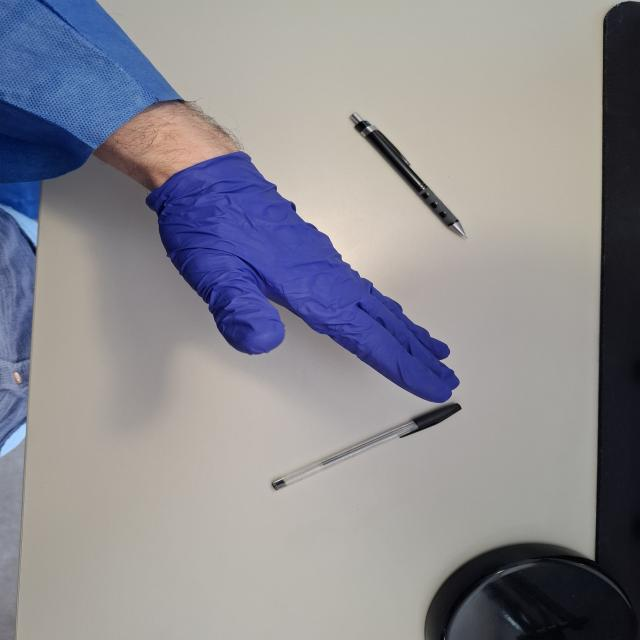glove_on: (144, 149, 464, 405)
